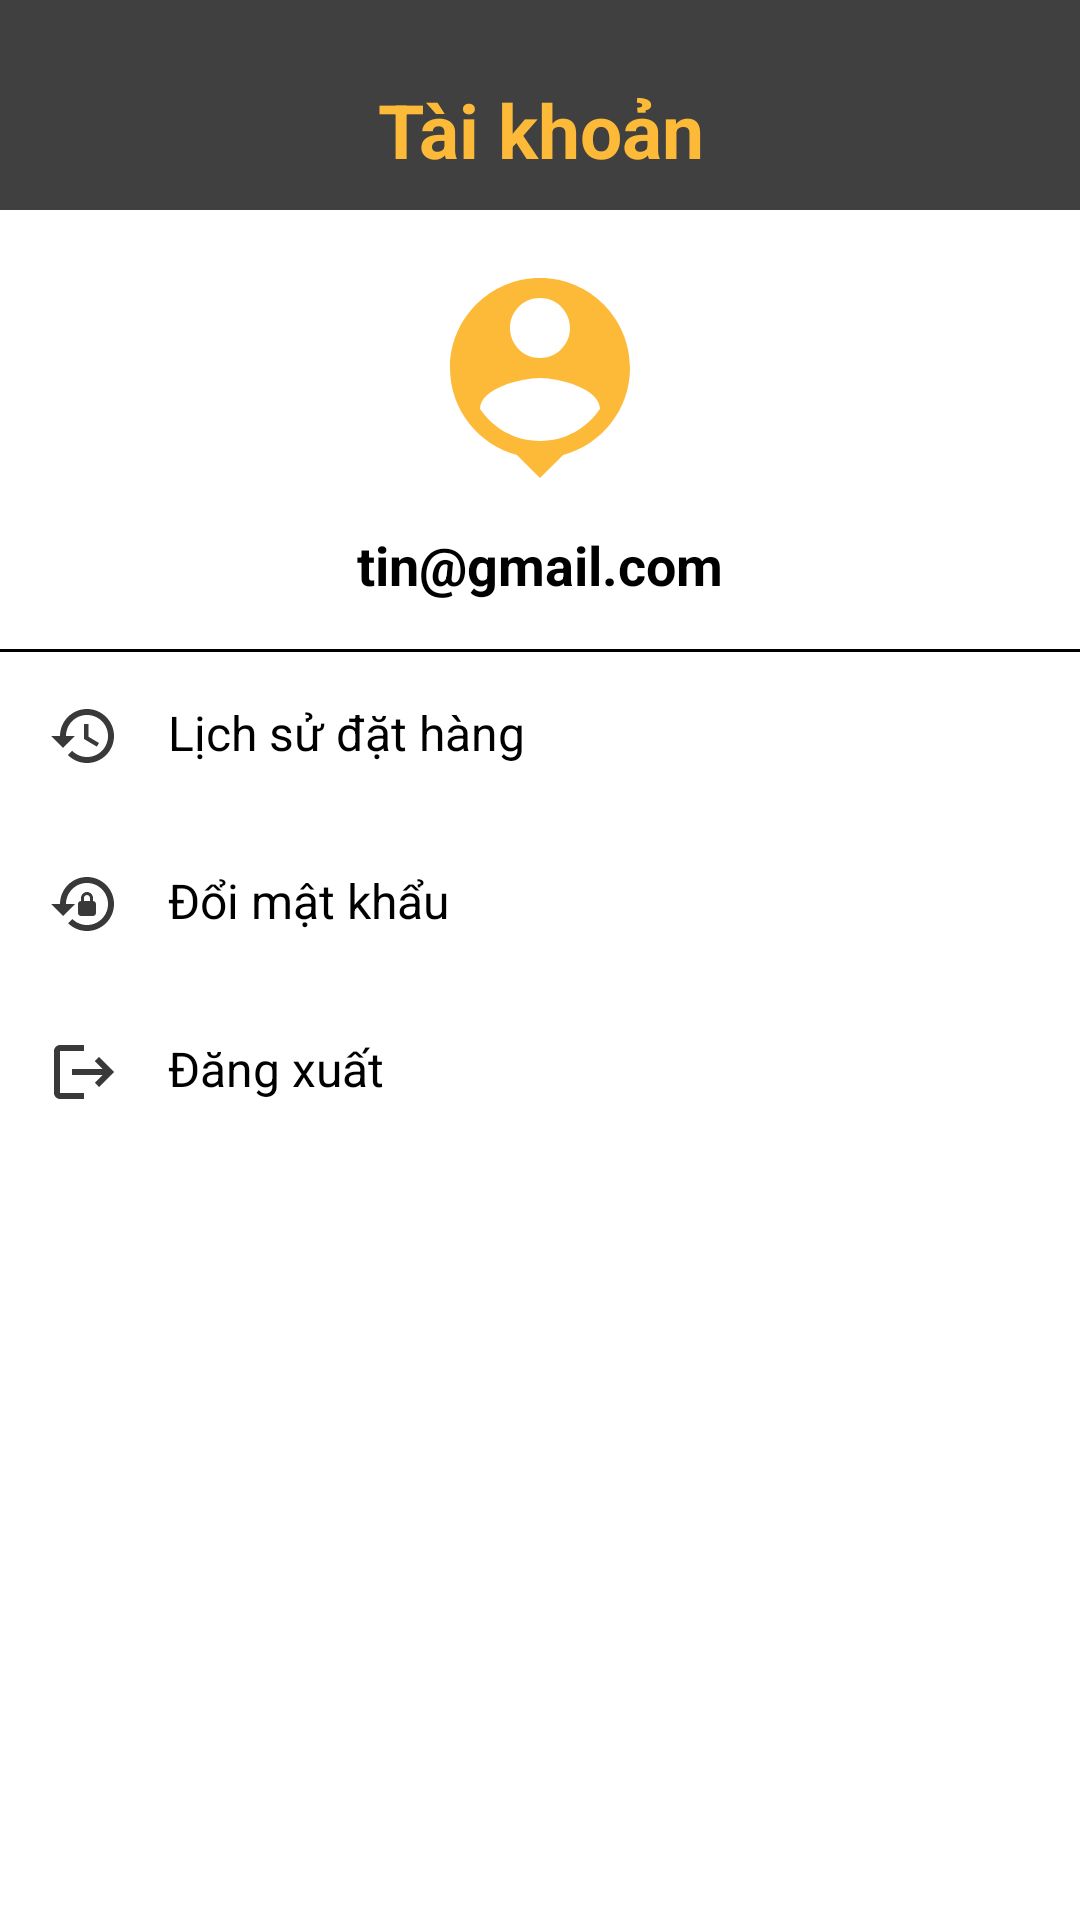

Icon click points for this 1080px x 1920px phone screenshot, format [x,y]:
history: [82,736]
lock reset: [82,904]
person pin: [540,378]
